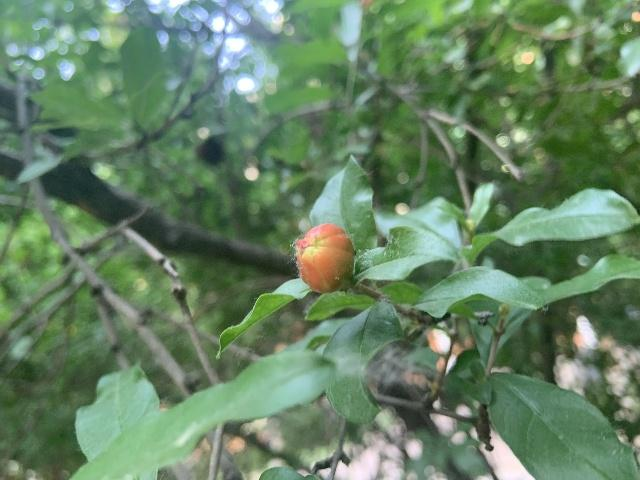bud: (296, 223, 354, 294)
